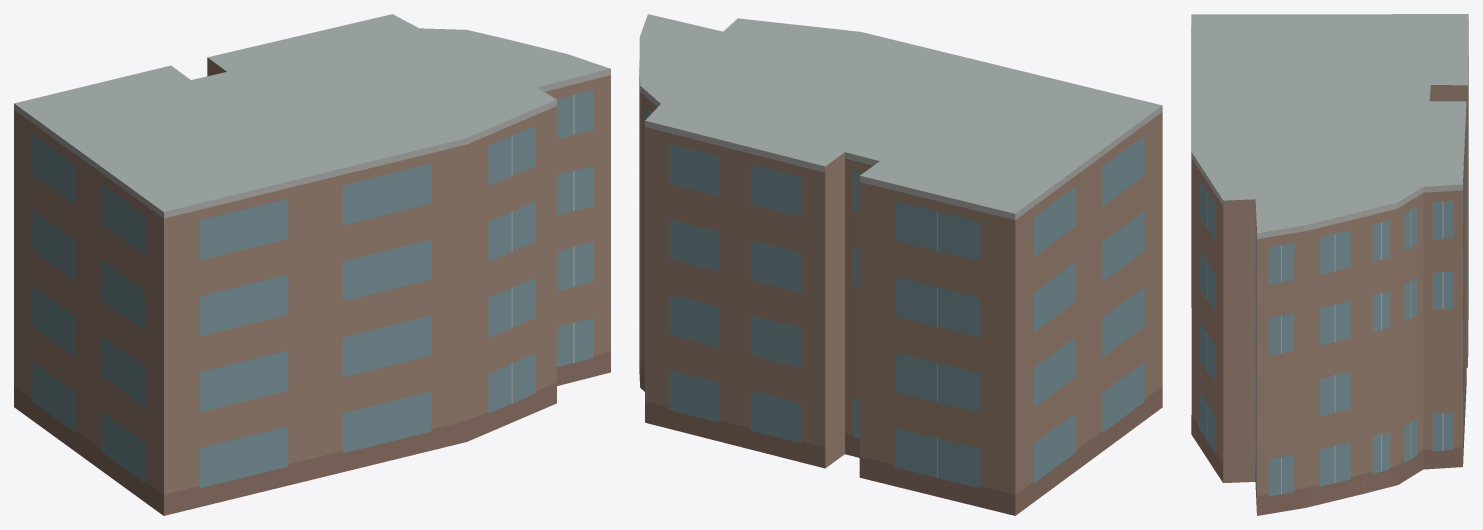
The model's file is survey-upis-32782978.glb.
The picture shows the model from 3 angles, left to right: view 1: azimuth 30°, elevation 25°; view 2: azimuth 150°, elevation 25°; view 3: azimuth 270°, elevation 25°; orthographic projection. The views are drawn at different scales.
Visible parts, largest first — view 1: survey-upis-32782978.tmp; view 2: survey-upis-32782978.tmp; view 3: survey-upis-32782978.tmp.
Part boxes in pixels (x1,y1,x2,y2): survey-upis-32782978.tmp: (14,14,610,515); survey-upis-32782978.tmp: (639,14,1162,515); survey-upis-32782978.tmp: (1191,14,1468,515).
Size of the model in its own units: 19.49 by 11.7 by 10.41.
